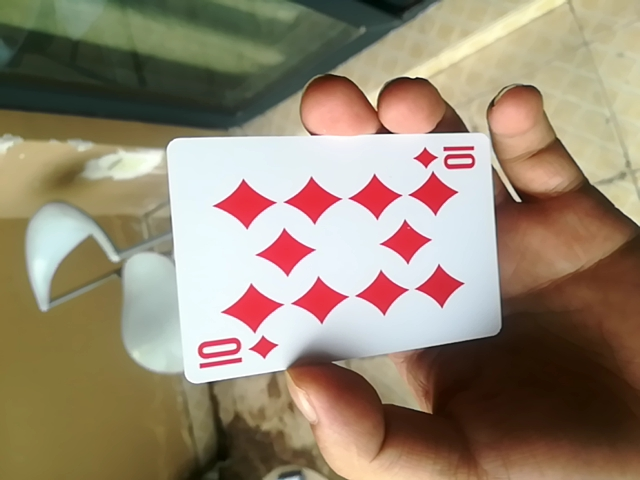fk 10: (160, 127, 502, 387)
